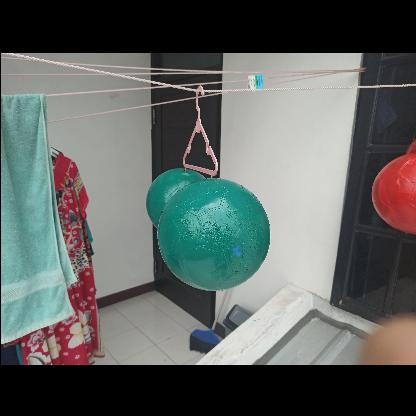green_ball: (158, 176, 272, 290)
